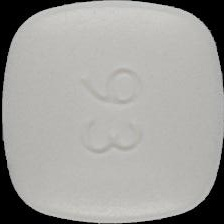33261-554: (0, 0, 224, 224)
